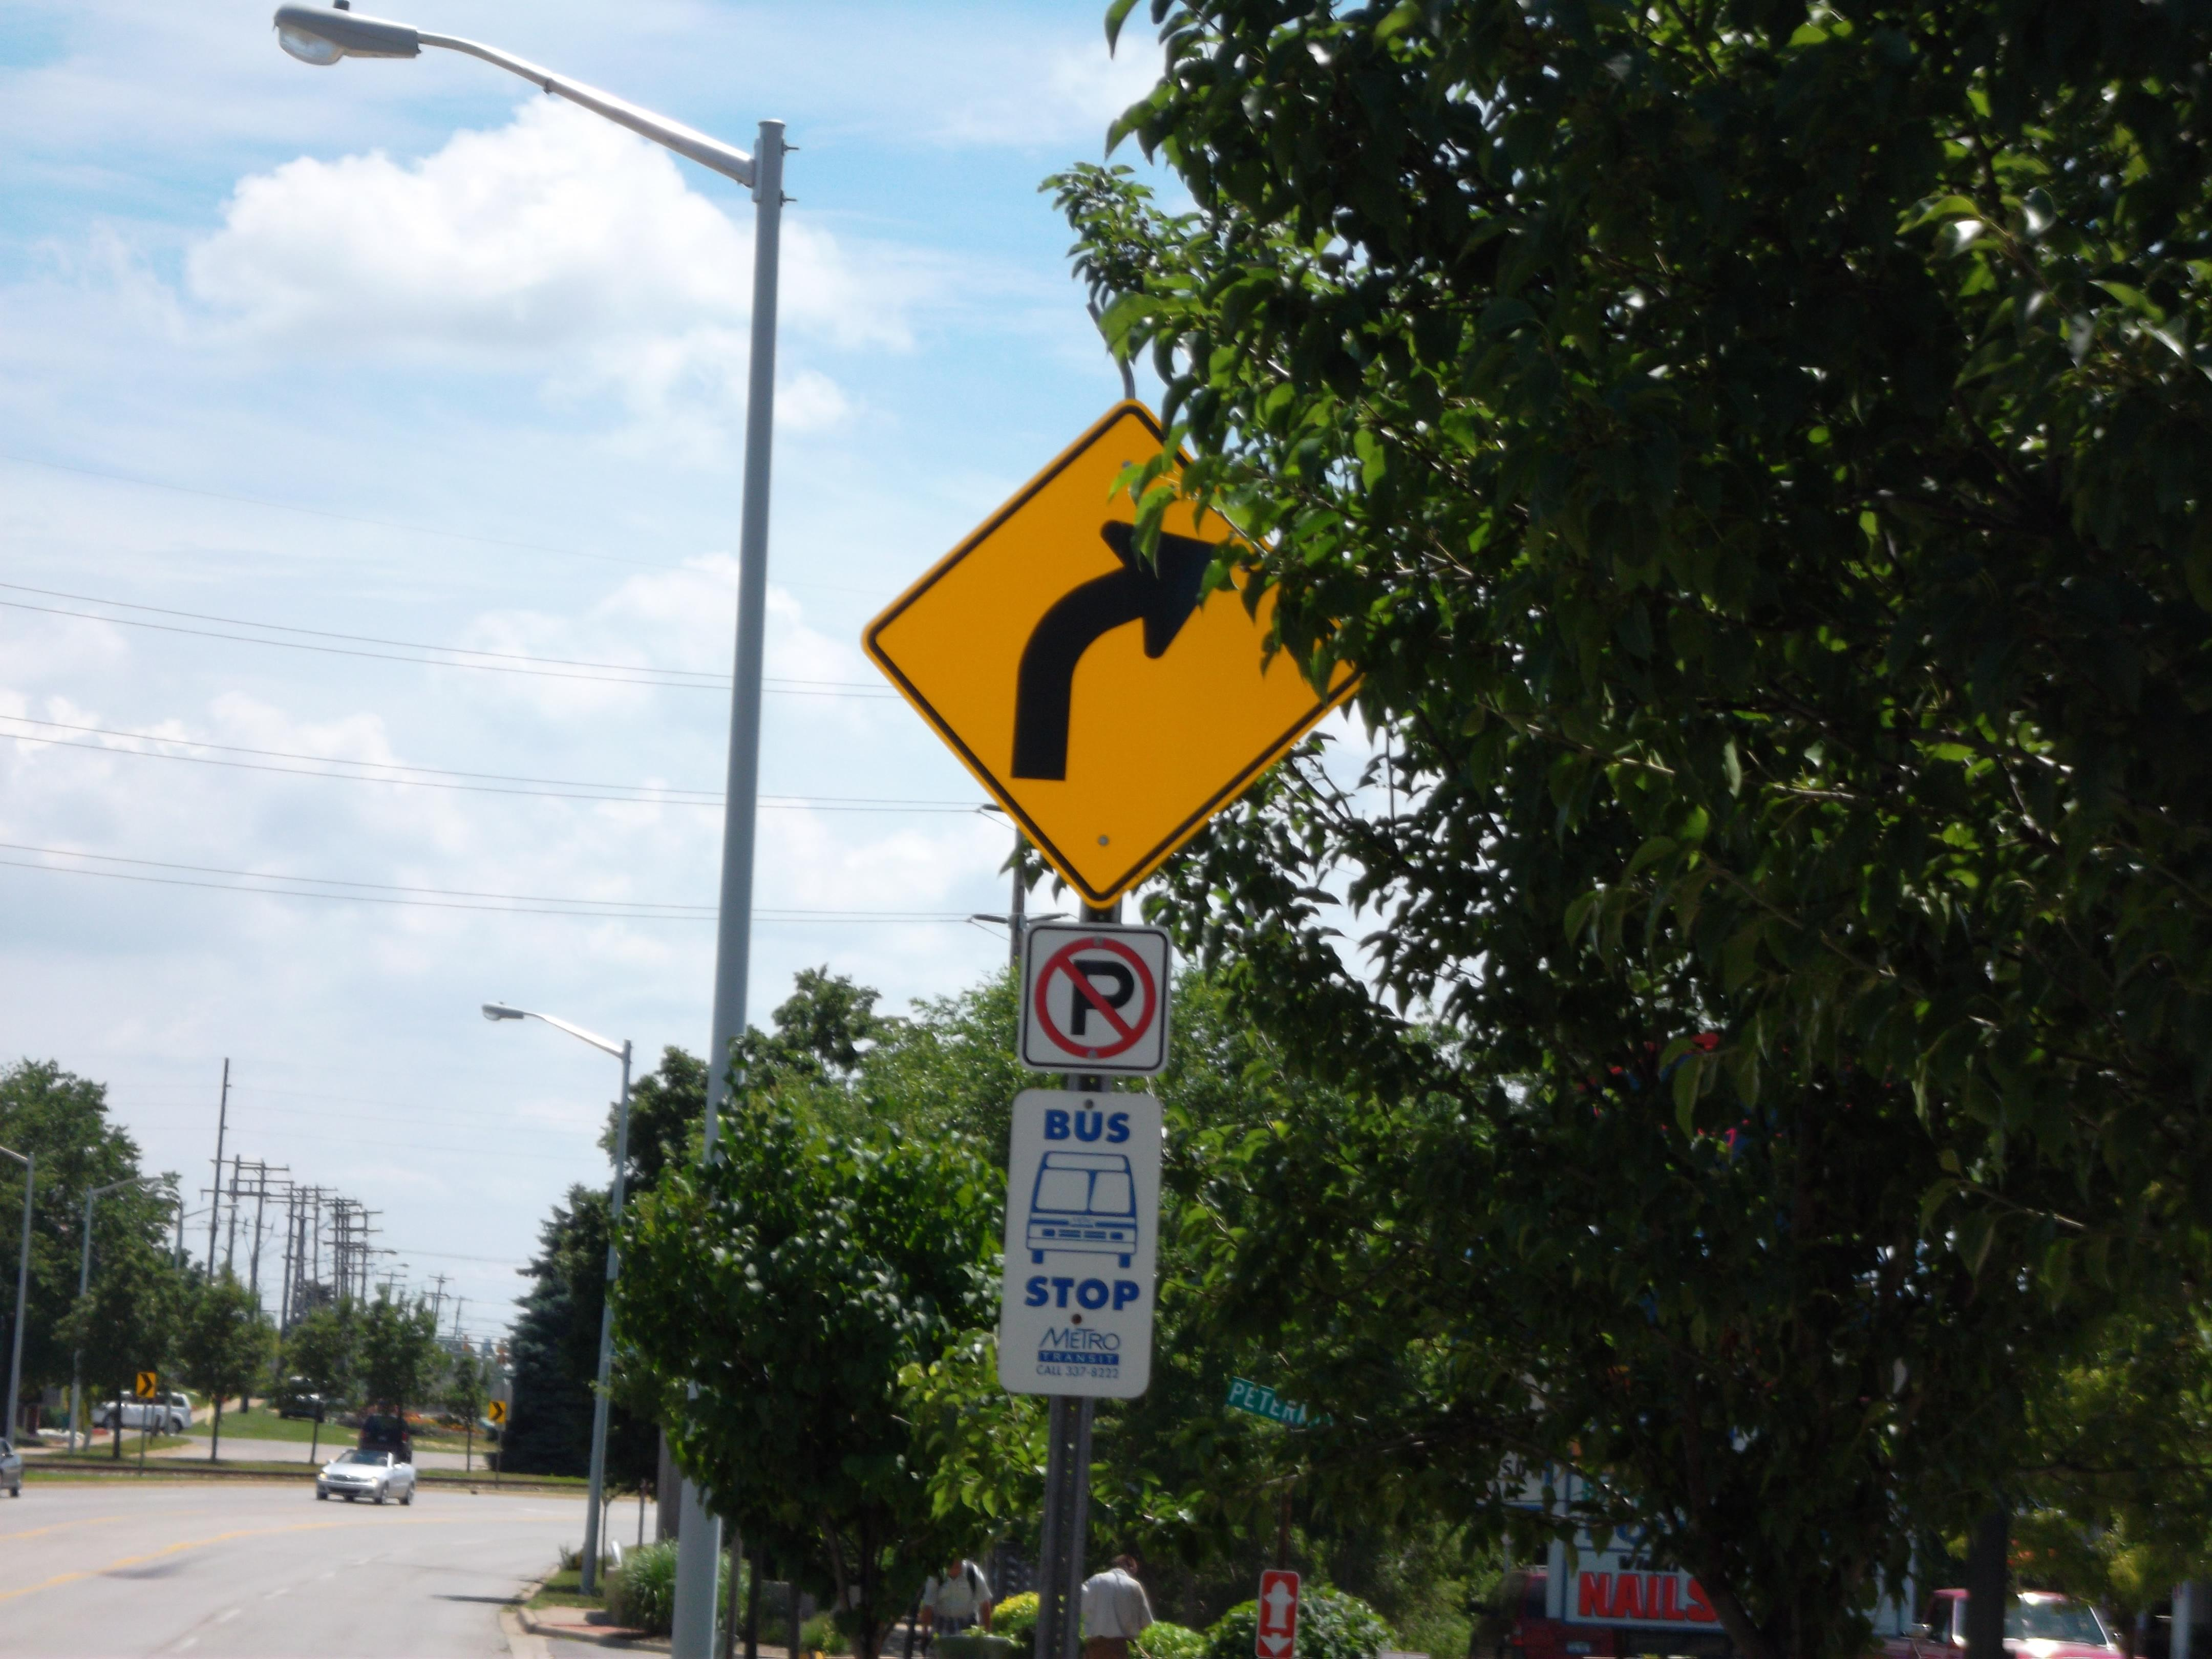regulatory: (1005, 917, 1186, 1077)
warning: (841, 364, 1400, 913)
